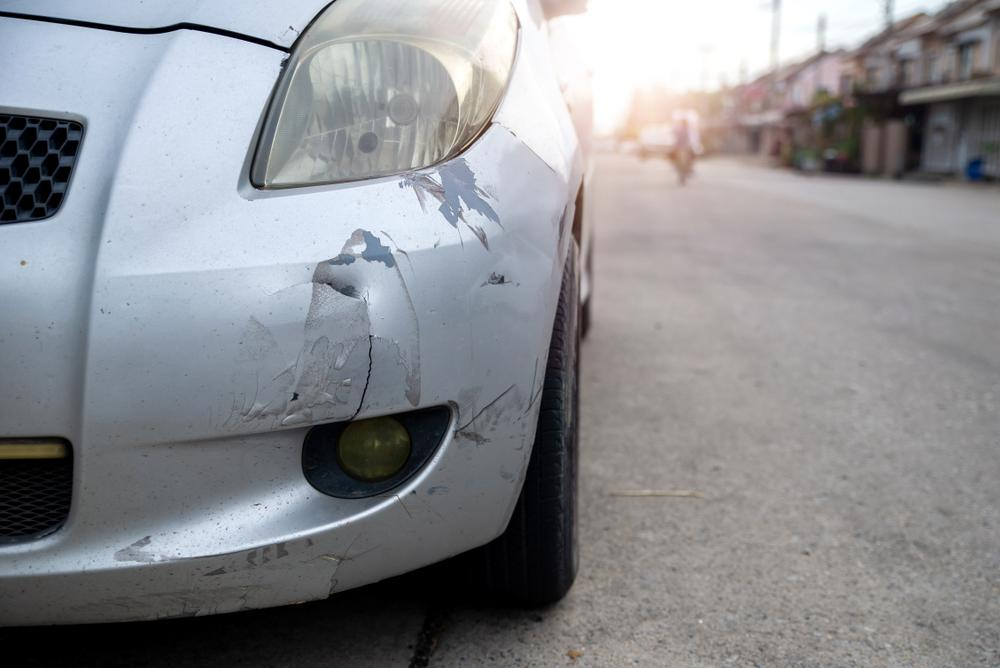crack: (349, 333, 375, 419)
scratch: (233, 228, 426, 419), (92, 531, 320, 619), (449, 357, 545, 484), (394, 155, 503, 253)
